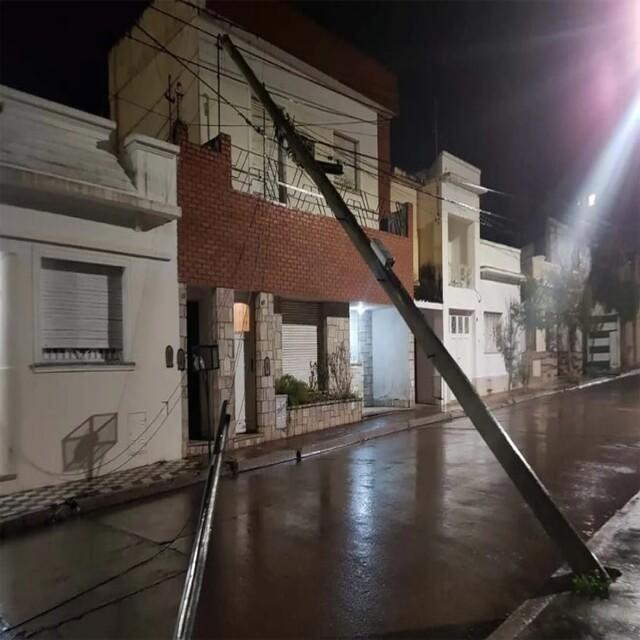Inclined Pole: (212, 29, 621, 592), (169, 401, 233, 640)
